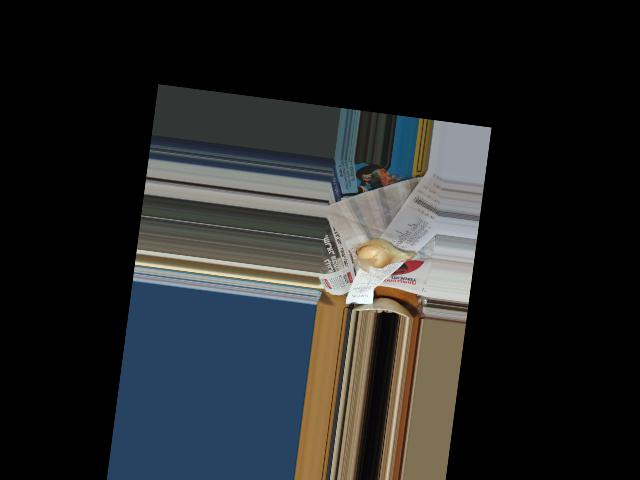onion: (353, 235, 411, 272)
